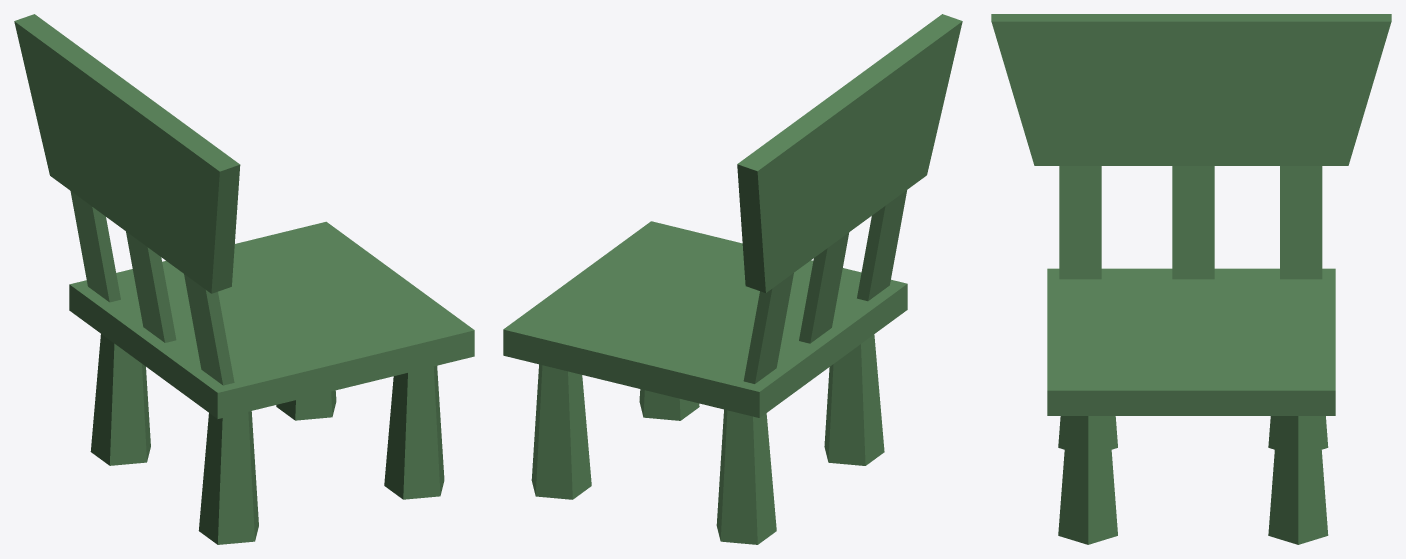
The model's file is GreenKidChair.fbx.
3 renders of one model, left to right at view 1: azimuth 30°, elevation 25°; view 2: azimuth 150°, elevation 25°; view 3: azimuth 270°, elevation 25°, orthographic. The views are drawn at different scales.
Parts seen in each view (by area): view 1: pCube10; view 2: pCube10; view 3: pCube10.
Part boxes in pixels (<box>): pCube10: <box>14,14,474,544</box>; pCube10: <box>503,14,962,544</box>; pCube10: <box>991,14,1391,544</box>.
Size of the model in its own units: 1.42 by 1.99 by 1.79.
